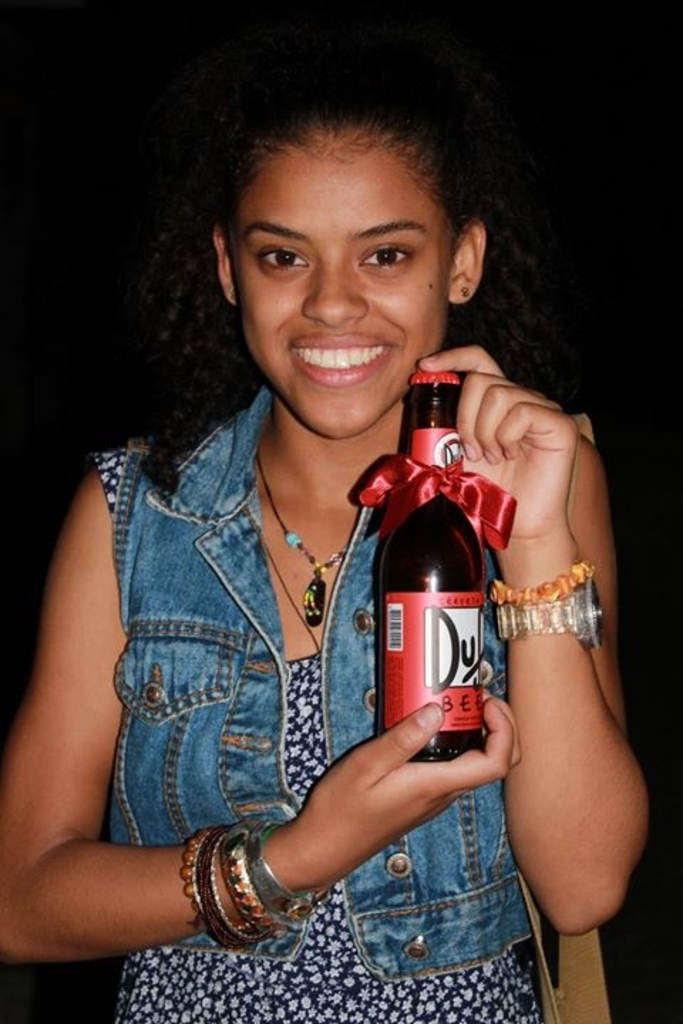Human_hand: (297, 686, 522, 882), (458, 354, 602, 558)
